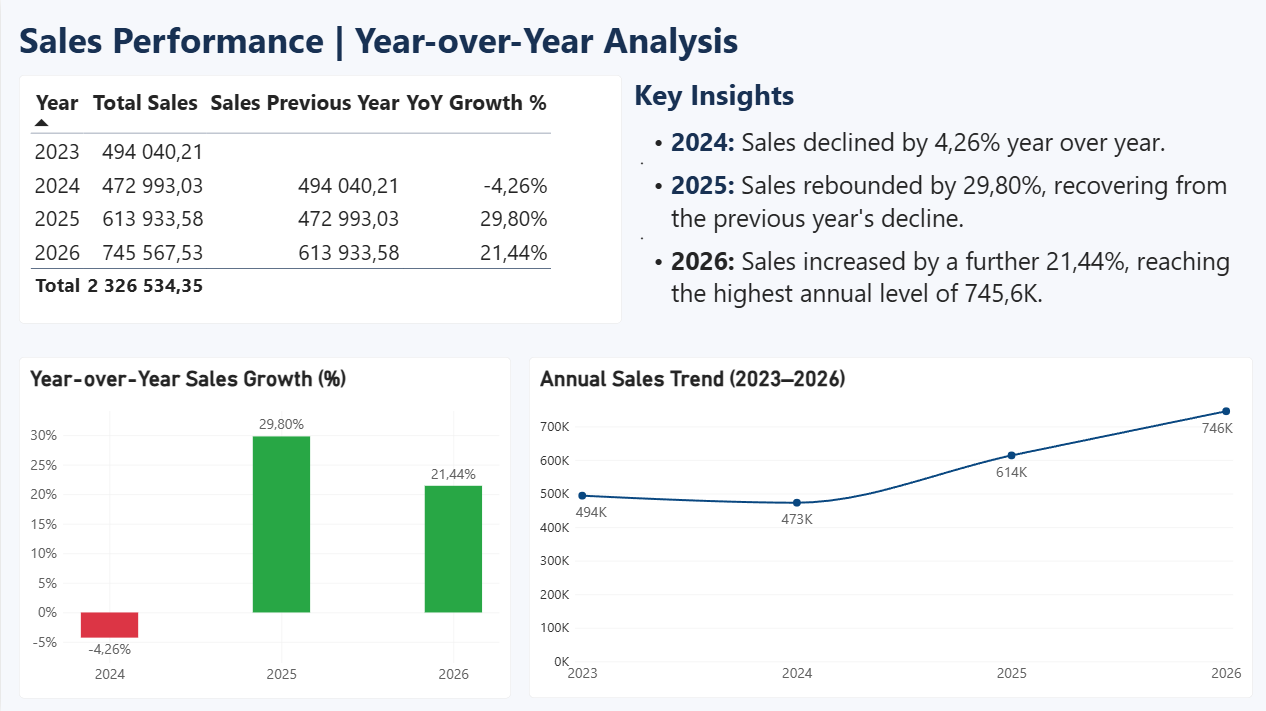

The page's visual inventory and layout, read from the dashboard file:
{"tool":"powerbi","page":{"name":"Validation","canvas":[1920,1080],"ordinal":1},"visuals":[{"type":"tableEx","fields":{"Values":["Calendar.Year","Orders.Total Sales","Orders.Sales Previous Year","Calendar.YoY Growth %"]},"box":[26.7,113.3,913.3,376.7],"z":0},{"type":"clusteredColumnChart","title":"Year-over-Year Sales Growth (%)","fields":{"Category":["Calendar.Year"],"Y":["Calendar.YoY Growth %"]},"box":[26.7,540,745,517.5],"z":1},{"type":"lineChart","title":"Annual Sales Trend (2023–2026)","fields":{"Category":["Calendar.Year"],"Y":["Orders.Total Sales"]},"box":[800,540,1096.7,516.7],"z":2},{"type":"textbox","box":[26.7,23.3,1823.3,90],"z":3},{"type":"textbox","box":[960,113.3,936.7,376.7],"z":4}]}

Visuals, with their boxes in screenshot pixels (x1, y1, x2, y2), scaled from the page's 1920x1080 canvas onto the 1266x711 screenshot:
tableEx - Calendar.Year x Orders.Total Sales: locate(18, 75, 620, 323)
"Year-over-Year Sales Growth (%)" clusteredColumnChart: locate(18, 356, 509, 696)
"Annual Sales Trend (2023–2026)" lineChart: locate(528, 356, 1251, 696)
textbox: locate(18, 15, 1220, 75)
textbox: locate(633, 75, 1251, 323)
